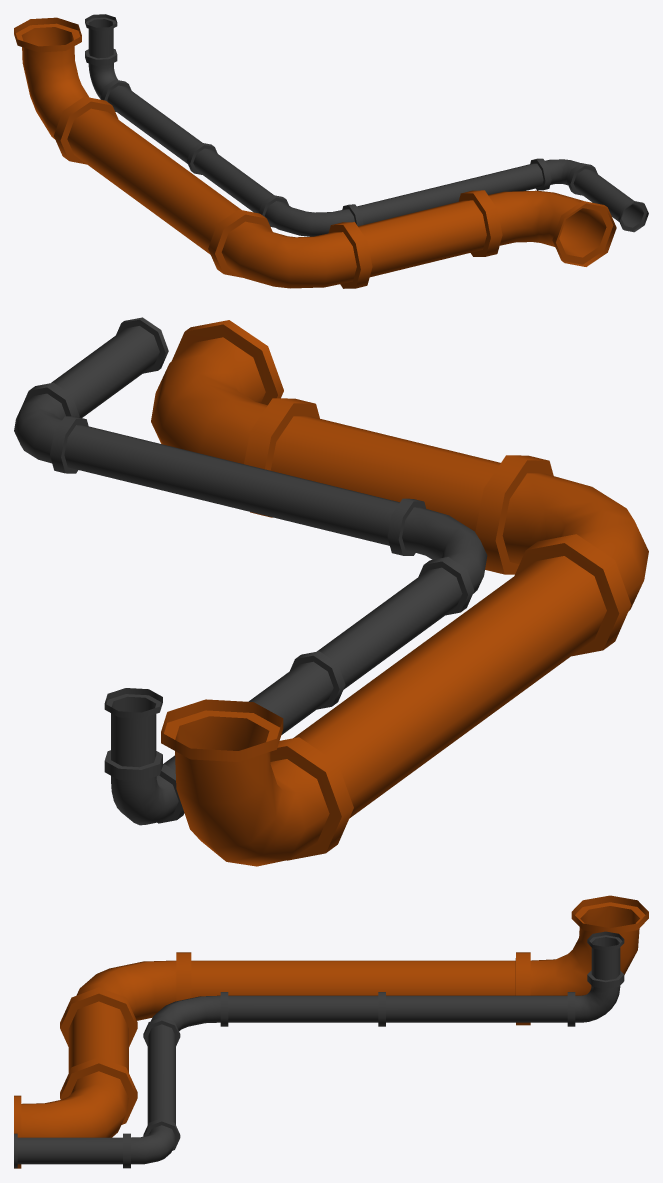
Rendered from SM_H_Building_Tide_Canteen_06B_ATLAS.fbx.
3 renders of one model, top to bottom at view 1: azimuth 30°, elevation 25°; view 2: azimuth 150°, elevation 25°; view 3: azimuth 270°, elevation 25°, orthographic. The views are drawn at different scales.
Parts seen in each view (by area): view 1: SM_H_Building_Tide_Canteen_06B_ATLAS; view 2: SM_H_Building_Tide_Canteen_06B_ATLAS; view 3: SM_H_Building_Tide_Canteen_06B_ATLAS.
Boxes of the visible parts, box(x1,y1,x2,y2) form: SM_H_Building_Tide_Canteen_06B_ATLAS: box(14, 14, 648, 288); SM_H_Building_Tide_Canteen_06B_ATLAS: box(14, 317, 648, 866); SM_H_Building_Tide_Canteen_06B_ATLAS: box(14, 895, 648, 1168).
Bounding box in the file's own units: 641 × 889 × 173.
